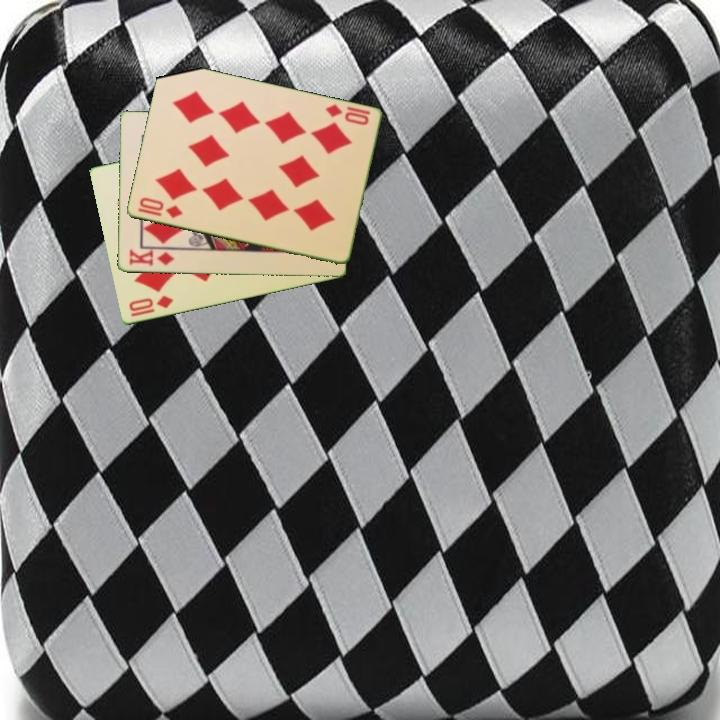10d: (125, 292, 176, 320), (134, 194, 185, 222), (321, 101, 371, 128)
Kd: (125, 246, 177, 269)
